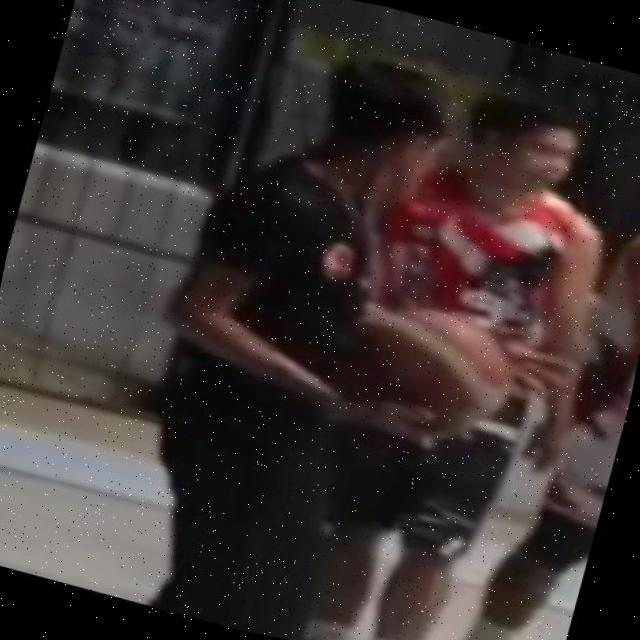ball: (312, 273, 540, 468)
